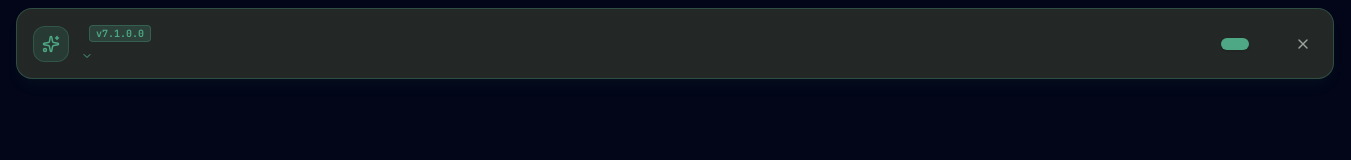
Test: UpdateNotificationBanner › hides the release notes again on a second click
Click the button with test id "banner-details-toggle" at (89, 56), box [81,50,97,62]
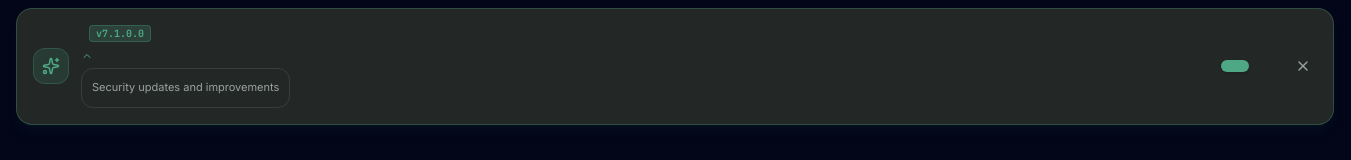
Now the text "Security updates and improvements" is shown, box [81,68,290,108]
Click the button with test id "banner-details-toggle" at (89, 56), box [81,50,97,62]
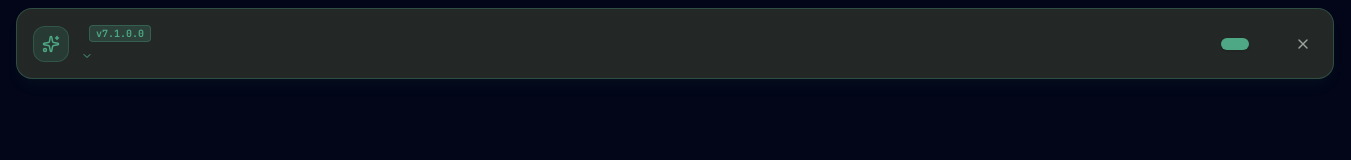
Now the text with test id "banner-release-notes" is gone
